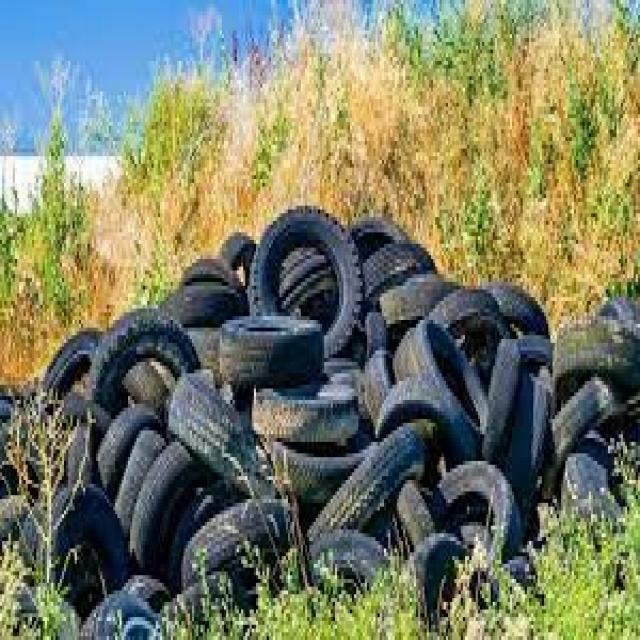Rubber -Non-Biodegradable but Recyclable-: (18, 213, 638, 585)
